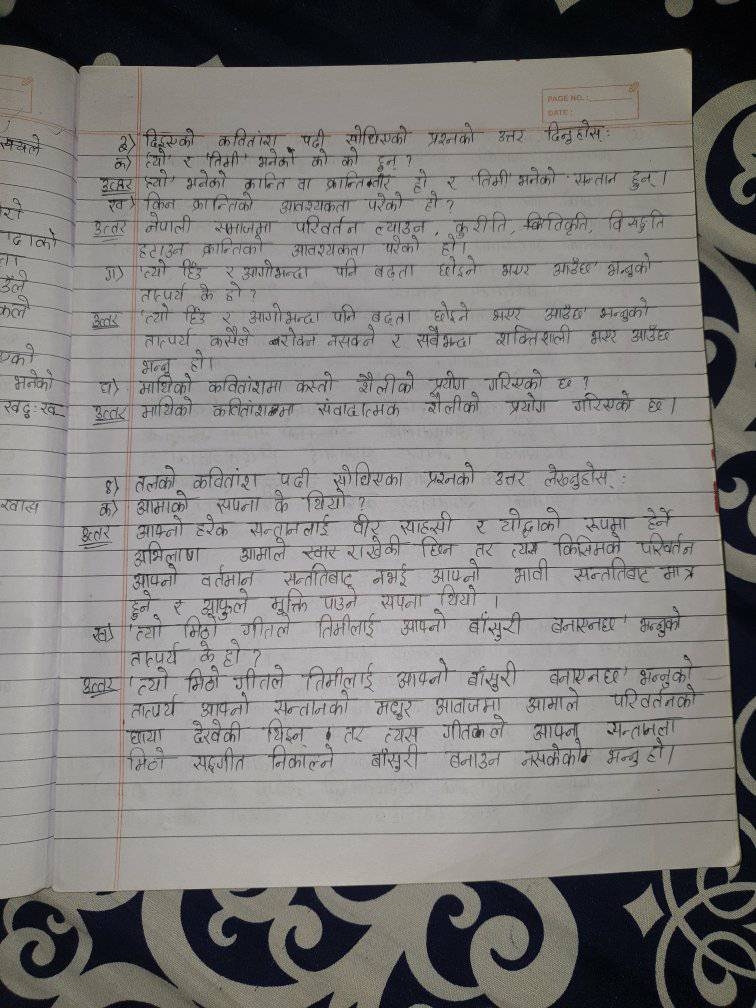text: (609, 687, 708, 710), (541, 462, 616, 492), (330, 462, 412, 488), (573, 557, 654, 583), (268, 746, 338, 776), (210, 396, 300, 419), (315, 396, 401, 420), (303, 664, 376, 692), (493, 323, 574, 348), (272, 694, 354, 718), (544, 119, 619, 145), (246, 517, 333, 539), (521, 740, 583, 770), (394, 659, 455, 689), (497, 507, 563, 534), (191, 465, 261, 490), (280, 563, 356, 586), (465, 612, 525, 641), (638, 655, 694, 686), (317, 614, 381, 641), (603, 207, 672, 232), (466, 661, 520, 692), (206, 375, 285, 396), (550, 615, 621, 638), (480, 366, 545, 391), (526, 688, 584, 716), (356, 368, 417, 394), (602, 718, 685, 737), (441, 718, 509, 741), (595, 295, 655, 321), (247, 304, 321, 325), (639, 608, 686, 641), (341, 125, 411, 147), (189, 719, 248, 745), (193, 747, 249, 774), (423, 461, 477, 489), (450, 212, 518, 234), (556, 534, 627, 555), (422, 393, 484, 417), (606, 250, 657, 279), (445, 747, 504, 772), (291, 215, 364, 235), (129, 564, 183, 591), (197, 589, 251, 616), (637, 534, 703, 556), (433, 694, 502, 715), (130, 542, 202, 562), (372, 746, 425, 773), (126, 695, 181, 721), (415, 326, 477, 349), (570, 392, 634, 414), (547, 666, 621, 685), (3, 224, 59, 249), (200, 237, 269, 257), (347, 537, 404, 561), (243, 260, 310, 280), (216, 127, 279, 148), (279, 196, 352, 214), (290, 240, 367, 257), (130, 642, 182, 667), (502, 392, 554, 417), (234, 668, 288, 692), (140, 397, 194, 421), (544, 209, 595, 234), (199, 694, 252, 718), (426, 121, 479, 145), (236, 539, 291, 562), (429, 560, 483, 583), (513, 163, 559, 190), (197, 565, 259, 585), (209, 217, 277, 235), (189, 194, 257, 212), (324, 172, 391, 190), (399, 512, 456, 533), (143, 127, 197, 149), (136, 516, 187, 539), (136, 492, 191, 513), (242, 617, 294, 639), (550, 252, 594, 278), (263, 719, 308, 744), (268, 588, 312, 613), (208, 327, 258, 349), (580, 513, 632, 534), (137, 376, 194, 395), (372, 697, 417, 721), (140, 214, 194, 234), (292, 370, 335, 395), (530, 718, 581, 739), (376, 590, 429, 610), (399, 615, 449, 636), (512, 560, 552, 586), (138, 283, 190, 303), (184, 169, 231, 191), (134, 464, 175, 489), (143, 330, 194, 350), (328, 327, 374, 349), (436, 256, 478, 280), (127, 749, 170, 772), (272, 466, 315, 489), (303, 490, 350, 511), (279, 327, 320, 351), (186, 666, 221, 694), (640, 506, 679, 531), (436, 584, 480, 606), (91, 401, 131, 425), (319, 589, 362, 611), (242, 172, 291, 191), (372, 218, 430, 234), (427, 370, 471, 391), (492, 467, 532, 490), (371, 563, 411, 586), (76, 520, 117, 542), (429, 301, 470, 323), (89, 218, 134, 238), (416, 536, 456, 558), (371, 262, 419, 280), (255, 149, 298, 169), (135, 668, 168, 694), (215, 495, 260, 514), (195, 516, 233, 538), (136, 240, 185, 257), (369, 307, 415, 325), (575, 168, 618, 187), (630, 326, 678, 343), (363, 192, 405, 211), (606, 743, 639, 767), (1, 194, 29, 222), (541, 304, 587, 321), (384, 723, 423, 743), (661, 563, 700, 583), (80, 671, 117, 692), (383, 234, 420, 255), (349, 513, 384, 535), (628, 167, 659, 191), (127, 727, 168, 745), (125, 593, 154, 617), (183, 620, 219, 639), (142, 193, 180, 211), (476, 168, 509, 188), (510, 538, 541, 559), (141, 306, 172, 327), (298, 127, 329, 148), (497, 260, 533, 278), (137, 621, 167, 642), (139, 356, 174, 374), (101, 173, 134, 192), (644, 738, 667, 765), (2, 271, 29, 294), (586, 328, 620, 346), (90, 310, 122, 329), (329, 304, 359, 324), (100, 474, 126, 497), (332, 258, 360, 279), (376, 150, 402, 172), (141, 260, 171, 279), (343, 724, 370, 745), (494, 126, 527, 143), (224, 639, 244, 667), (207, 151, 242, 167), (472, 539, 501, 558), (1, 298, 27, 319), (438, 236, 468, 254), (179, 259, 204, 280), (646, 394, 667, 417), (114, 130, 135, 153), (492, 306, 524, 321), (96, 377, 118, 398), (183, 305, 206, 325), (145, 171, 169, 190), (144, 151, 170, 168), (224, 282, 245, 303), (92, 624, 114, 644), (272, 490, 291, 512), (310, 149, 332, 168), (105, 196, 131, 212), (102, 263, 122, 283), (196, 282, 217, 301), (199, 641, 216, 663), (473, 514, 490, 536), (411, 169, 427, 192), (168, 595, 186, 615), (388, 330, 405, 351), (1, 251, 23, 267), (296, 176, 314, 195), (111, 155, 132, 171), (342, 150, 361, 167), (190, 352, 206, 372), (556, 373, 574, 390), (445, 172, 459, 193), (425, 193, 438, 214), (219, 308, 234, 325), (99, 498, 113, 516), (222, 265, 236, 279), (182, 154, 195, 169)
